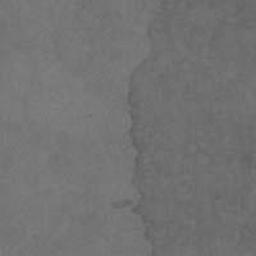Water spot: (110, 0, 256, 256)
